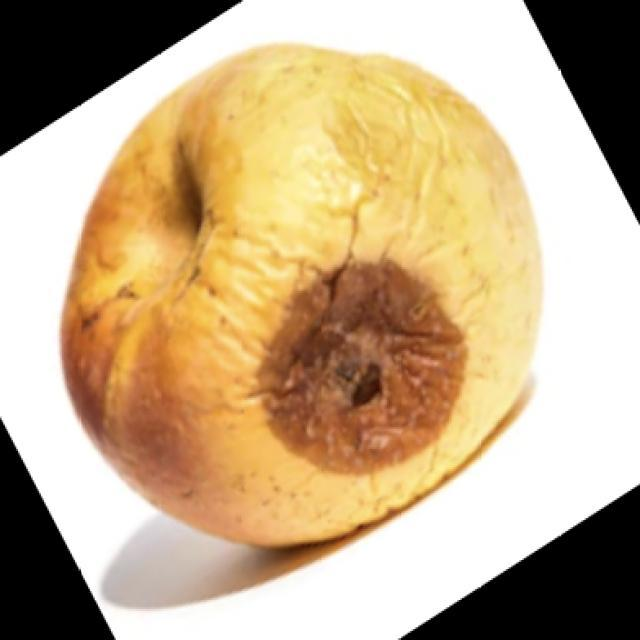Rotten: (55, 45, 558, 552)
